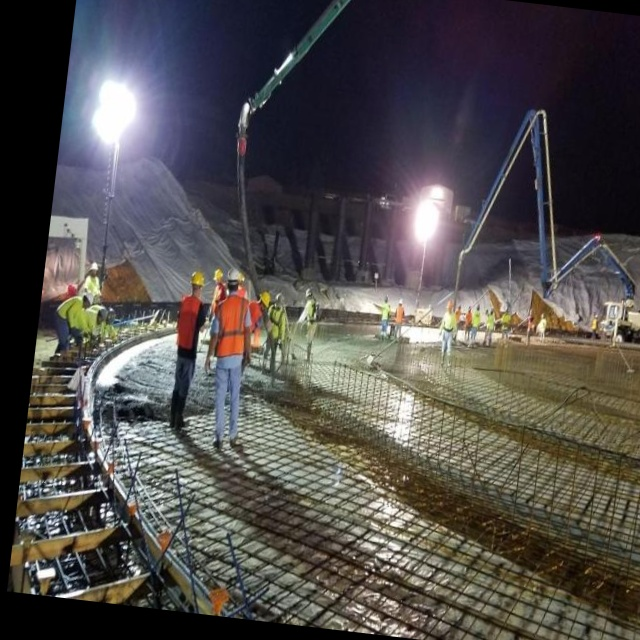Con_Casco: (225, 267, 241, 294), (189, 271, 206, 295)
Con_Chaleco: (211, 296, 250, 366), (173, 295, 204, 355)
